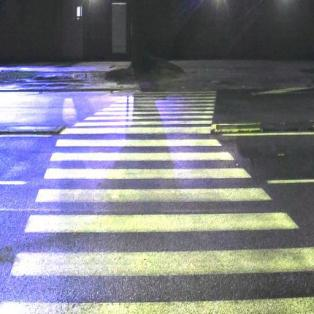Paso de Cebra: (8, 204, 314, 281), (49, 136, 236, 163)
